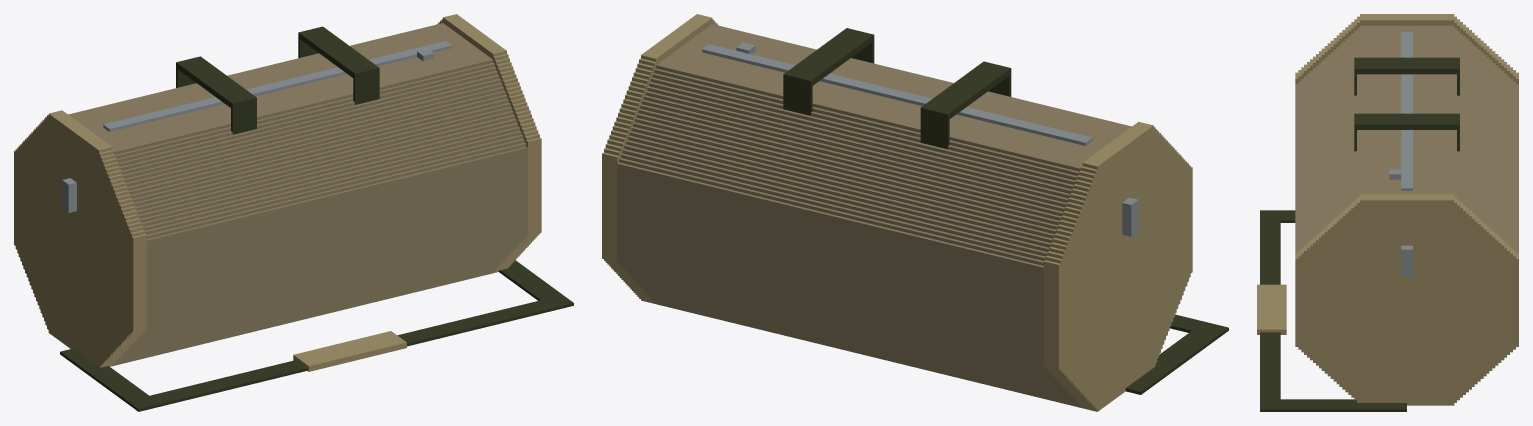
The model's file is duffelbag.glb.
3 renders of one model, left to right at view 1: azimuth 30°, elevation 25°; view 2: azimuth 150°, elevation 25°; view 3: azimuth 270°, elevation 25°, orthographic. The views are drawn at different scales.
Visible parts, largest first — view 1: duffelbag:compound; view 2: duffelbag:compound; view 3: duffelbag:compound.
Part boxes in pixels (bbox=[...]): duffelbag:compound: bbox=[14, 14, 573, 411]; duffelbag:compound: bbox=[602, 14, 1228, 411]; duffelbag:compound: bbox=[1257, 14, 1518, 411].
Size of the model in its own units: 0.64 by 0.332 by 0.356.
